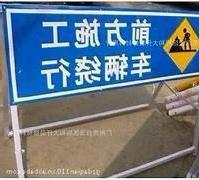sign: (5, 3, 199, 102)
